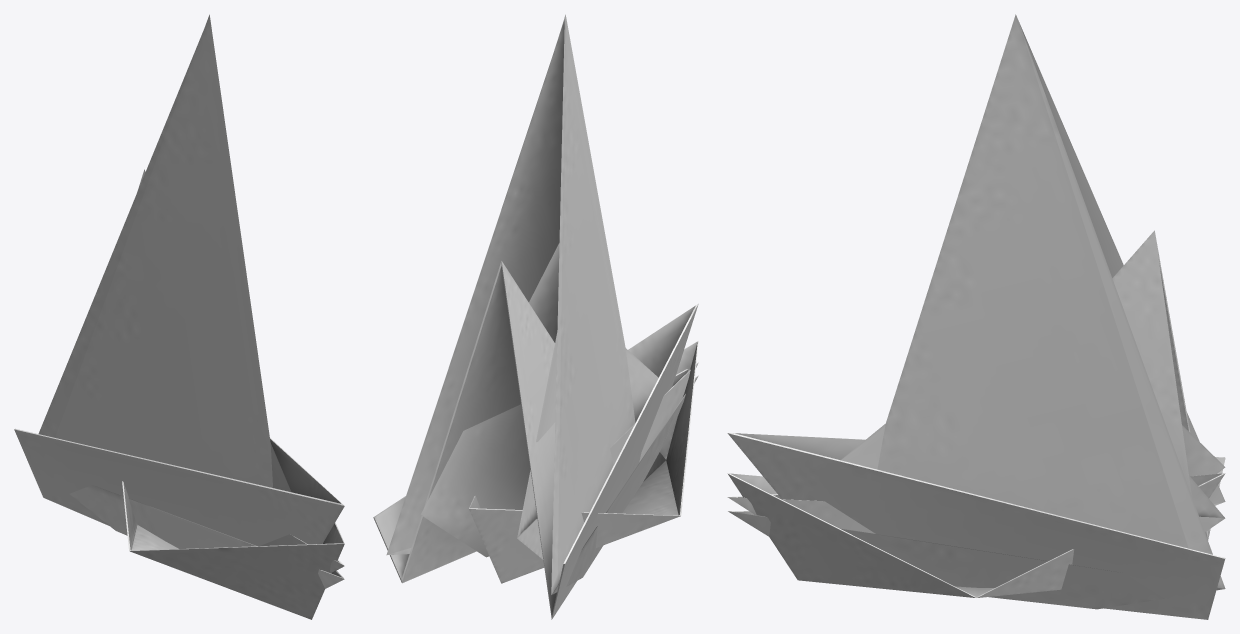
The model's file is boats.glb.
3 views of the same model, side by side, from view 1: azimuth 30°, elevation 25°; view 2: azimuth 150°, elevation 25°; view 3: azimuth 270°, elevation 25° (orthographic). The views are drawn at different scales.
Visible parts, largest first — view 1: TallSail, WideSail, PaperBoat, Sailboat; view 2: TallSail, WideSail, Sailboat, PaperBoat; view 3: TallSail, WideSail, PaperBoat, Sailboat.
Part boxes in pixels (x1,y1,x2,y2): TallSail: [38, 14, 344, 588]; WideSail: [14, 169, 344, 546]; PaperBoat: [122, 481, 344, 619]; Sailboat: [259, 443, 344, 573]; TallSail: [386, 14, 698, 594]; WideSail: [373, 261, 698, 619]; Sailboat: [420, 243, 698, 559]; PaperBoat: [469, 341, 698, 583]; TallSail: [727, 14, 1225, 609]; WideSail: [727, 230, 1225, 619]; PaperBoat: [727, 473, 1225, 597]; Sailboat: [727, 424, 1225, 533].
Bounding box in the file's own units: 0.4893 × 1.25 × 1.
1 material, 1 textured.
